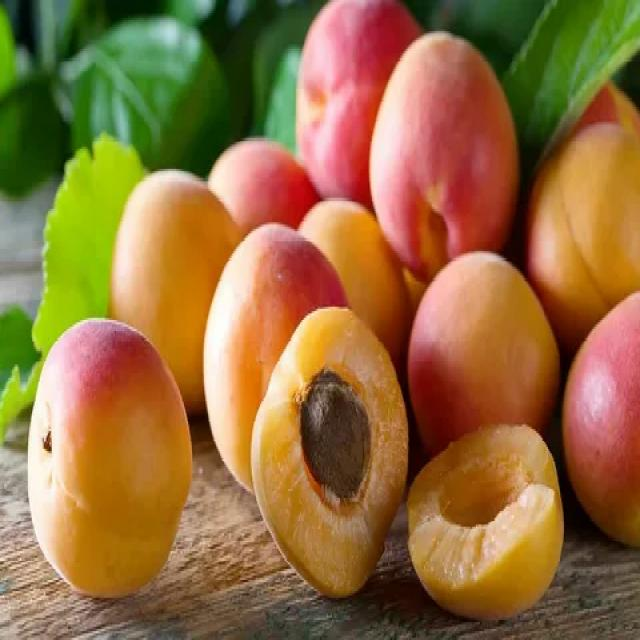Cekirdek: (300, 369, 369, 500)
Kayisi: (28, 320, 191, 593)
Yaprak: (61, 18, 228, 167)
